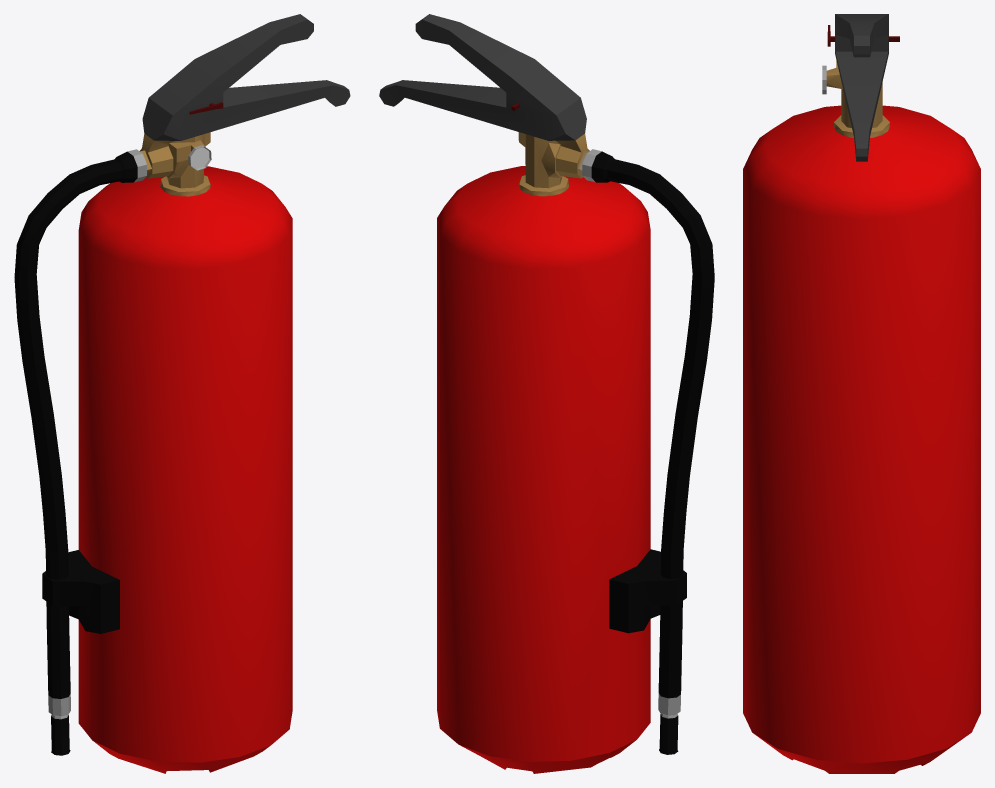
File: hasicak.fbx
The picture shows the model from 3 angles, left to right: view 1: azimuth 30°, elevation 25°; view 2: azimuth 150°, elevation 25°; view 3: azimuth 270°, elevation 25°; orthographic projection. The views are drawn at different scales.
Parts seen in each view (by area): view 1: hasicak; view 2: hasicak; view 3: hasicak.
Part boxes in pixels (x1,y1,x2,y2): hasicak: [14, 14, 350, 773]; hasicak: [379, 14, 714, 773]; hasicak: [743, 14, 980, 773].
Bounding box in the file's own units: 28.39 × 57.05 × 16.
